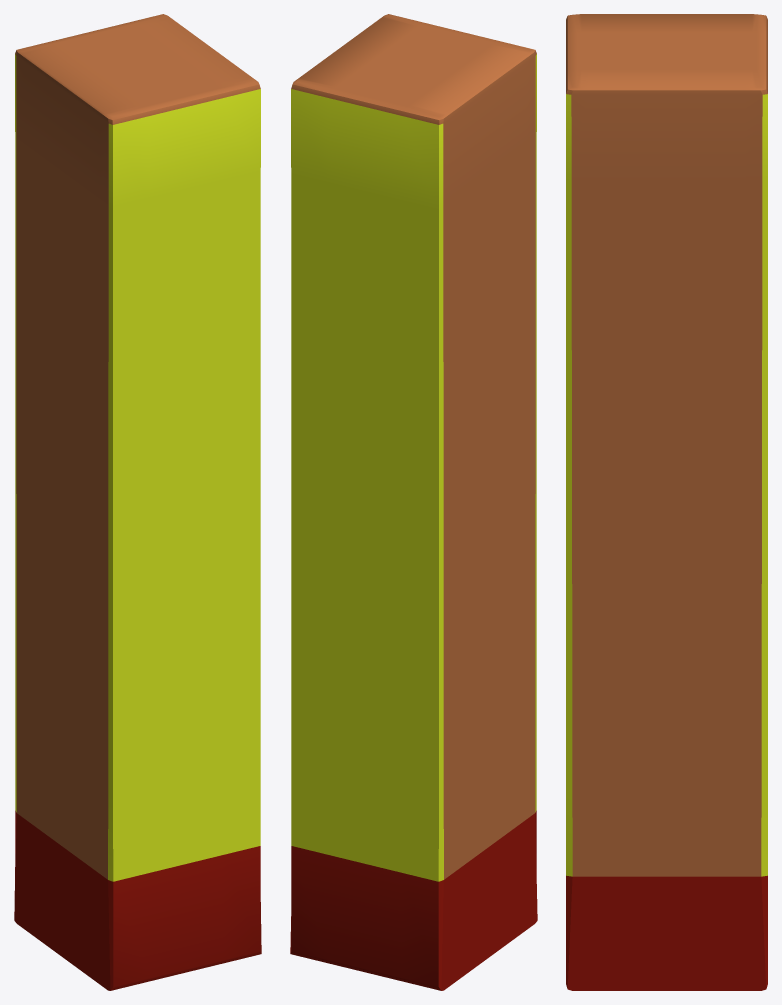
Rendered from IntWall4mPost.fbx.
3 views of the same model, side by side, from view 1: azimuth 30°, elevation 25°; view 2: azimuth 150°, elevation 25°; view 3: azimuth 270°, elevation 25° (orthographic). The views are drawn at different scales.
Parts seen in each view (by area): view 1: (Mapped) int wall 4m post; view 2: (Mapped) int wall 4m post; view 3: (Mapped) int wall 4m post.
Boxes of the visible parts, x1=… form: (Mapped) int wall 4m post: x1=14, y1=14, x2=261, y2=990; (Mapped) int wall 4m post: x1=290, y1=14, x2=537, y2=990; (Mapped) int wall 4m post: x1=566, y1=14, x2=767, y2=990.
Size of the model in its own units: 0.7373 by 4.07 by 0.8257.
